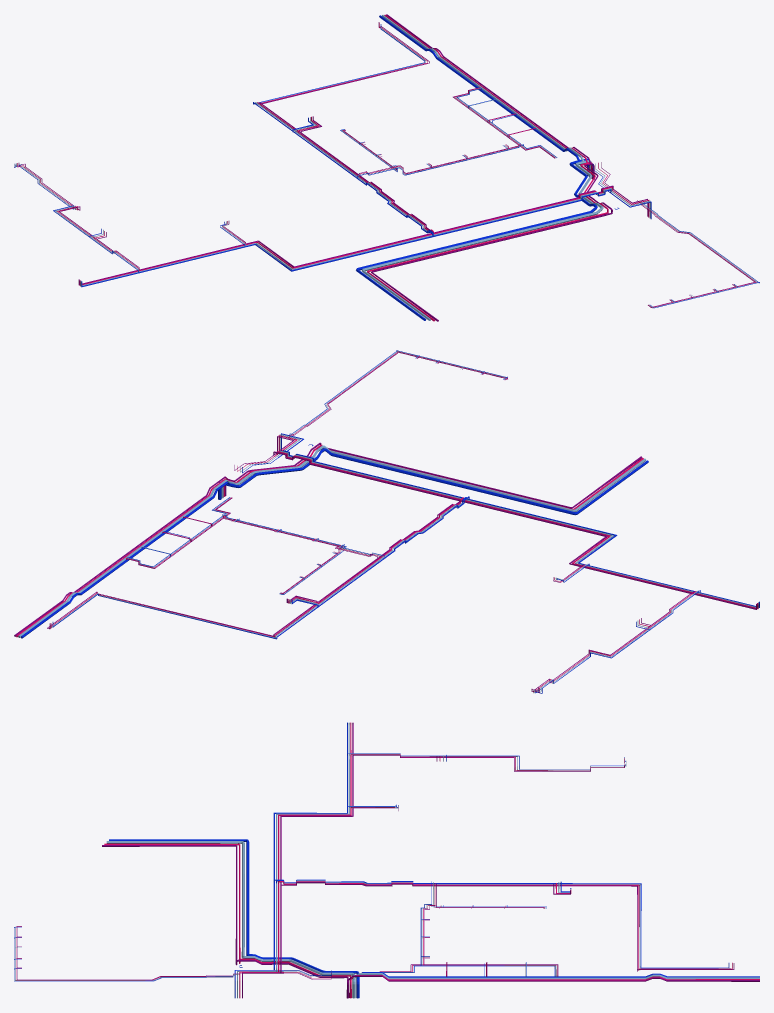
The model's file is main.fbx.
3 renders of one model, top to bottom at view 1: azimuth 30°, elevation 25°; view 2: azimuth 150°, elevation 25°; view 3: azimuth 270°, elevation 25°, orthographic. The views are drawn at different scales.
Parts seen in each view (by area): view 1: GMEP_B1_nuantongshui_polySurface2506, polySurface2543, pCylinder15, polySurface2544; view 2: GMEP_B1_nuantongshui_polySurface2506, polySurface2543, pCylinder15, polySurface2544; view 3: GMEP_B1_nuantongshui_polySurface2506, polySurface2543, pCylinder15, polySurface2544.
Boxes of the visible parts, left/top/right/bottom form: GMEP_B1_nuantongshui_polySurface2506: left=75, top=116, right=626, bottom=287; polySurface2543: left=356, top=199, right=759, bottom=321; pCylinder15: left=14, top=14, right=466, bottom=226; polySurface2544: left=340, top=73, right=557, bottom=175; GMEP_B1_nuantongshui_polySurface2506: left=193, top=444, right=759, bottom=640; polySurface2543: left=277, top=350, right=648, bottom=515; pCylinder15: left=14, top=574, right=634, bottom=693; polySurface2544: left=99, top=505, right=347, bottom=594; GMEP_B1_nuantongshui_polySurface2506: left=252, top=722, right=576, bottom=998; polySurface2543: left=14, top=839, right=252, bottom=998; pCylinder15: left=474, top=755, right=759, bottom=981; polySurface2544: left=410, top=901, right=597, bottom=981.
Bounding box in the file's own units: 98.13 × 4.3 × 122.
